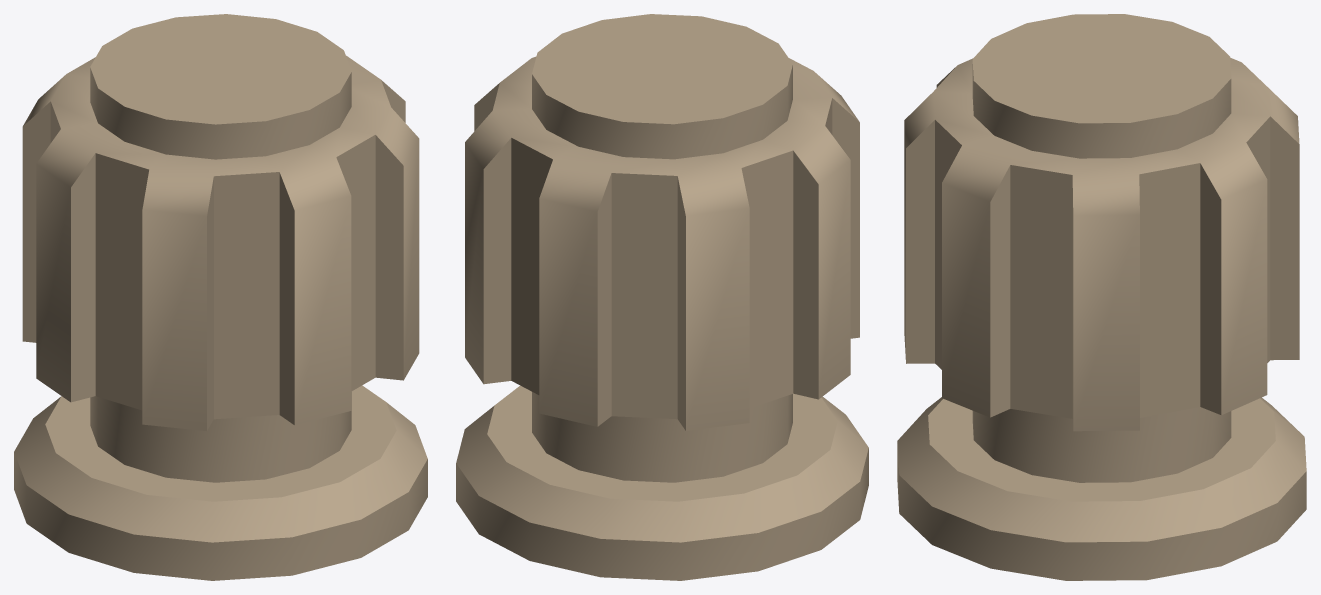
Rendered from PotarType4.fbx.
The picture shows the model from 3 angles, left to right: view 1: azimuth 30°, elevation 25°; view 2: azimuth 150°, elevation 25°; view 3: azimuth 270°, elevation 25°; orthographic projection.
Visible parts, largest first — view 1: Potar8; view 2: Potar8; view 3: Potar8.
Part boxes in pixels (box(x1,y1,x2,y2)): Potar8: box(14, 14, 427, 580); Potar8: box(456, 14, 868, 580); Potar8: box(897, 14, 1306, 580).
Size of the model in its own units: 4.81 by 5.52 by 4.81.
